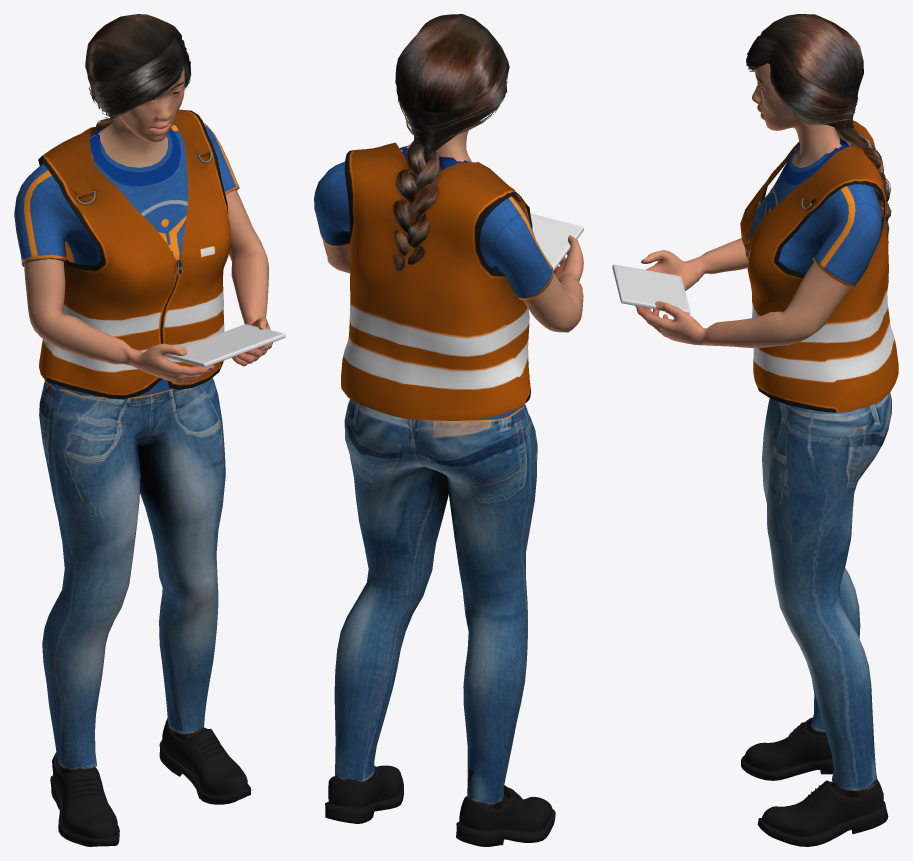
File: Idol_without_mask_static.fbx
3 views of the same model, side by side, from view 1: azimuth 30°, elevation 25°; view 2: azimuth 150°, elevation 25°; view 3: azimuth 270°, elevation 25° (orthographic). The views are drawn at different scales.
Parts seen in each view (by area): view 1: AsianWoman_Mesh; view 2: AsianWoman_Mesh; view 3: AsianWoman_Mesh.
Boxes of the visible parts, left/top/right/bottom form: AsianWoman_Mesh: left=14, top=14, right=285, bottom=846; AsianWoman_Mesh: left=314, top=14, right=583, bottom=846; AsianWoman_Mesh: left=612, top=14, right=898, bottom=846.
Bounding box in the file's own units: 53.93 × 176 × 58.55.
7 materials, 6 textured.
